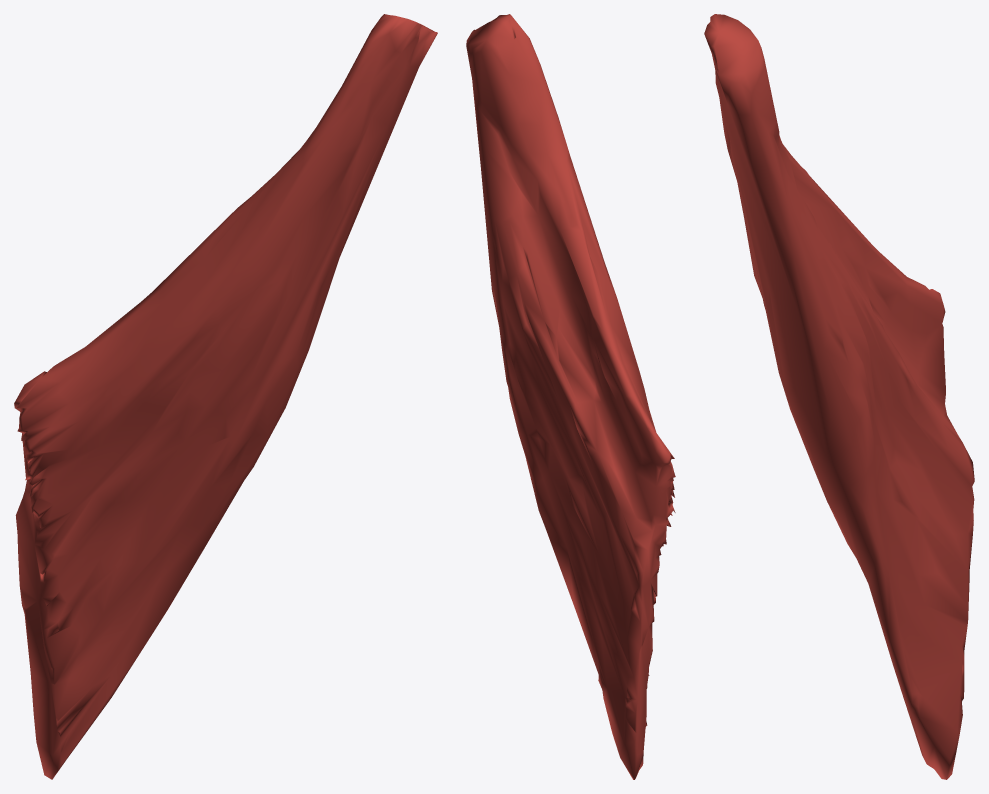
The model's file is musculos-adductor-brevis-r.glb.
3 renders of one model, left to right at view 1: azimuth 30°, elevation 25°; view 2: azimuth 150°, elevation 25°; view 3: azimuth 270°, elevation 25°, orthographic. The views are drawn at different scales.
Visible parts, largest first — view 1: Adductor brevis.r; view 2: Adductor brevis.r; view 3: Adductor brevis.r.
Boxes of the visible parts, left/top/right/bottom form: Adductor brevis.r: left=14, top=14, right=437, bottom=779; Adductor brevis.r: left=466, top=14, right=675, bottom=779; Adductor brevis.r: left=704, top=14, right=974, bottom=779.
Bounding box in the file's own units: 0.0791 × 0.1763 × 0.0478.
